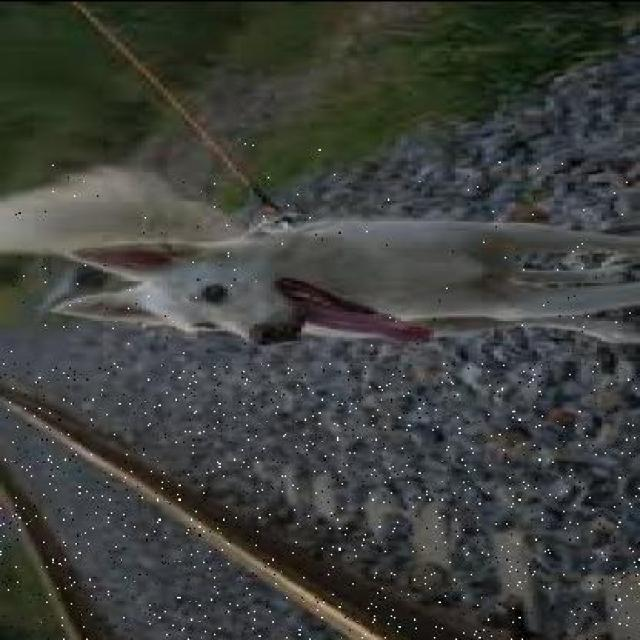danger: (11, 140, 640, 352)
rail: (0, 362, 640, 640)
